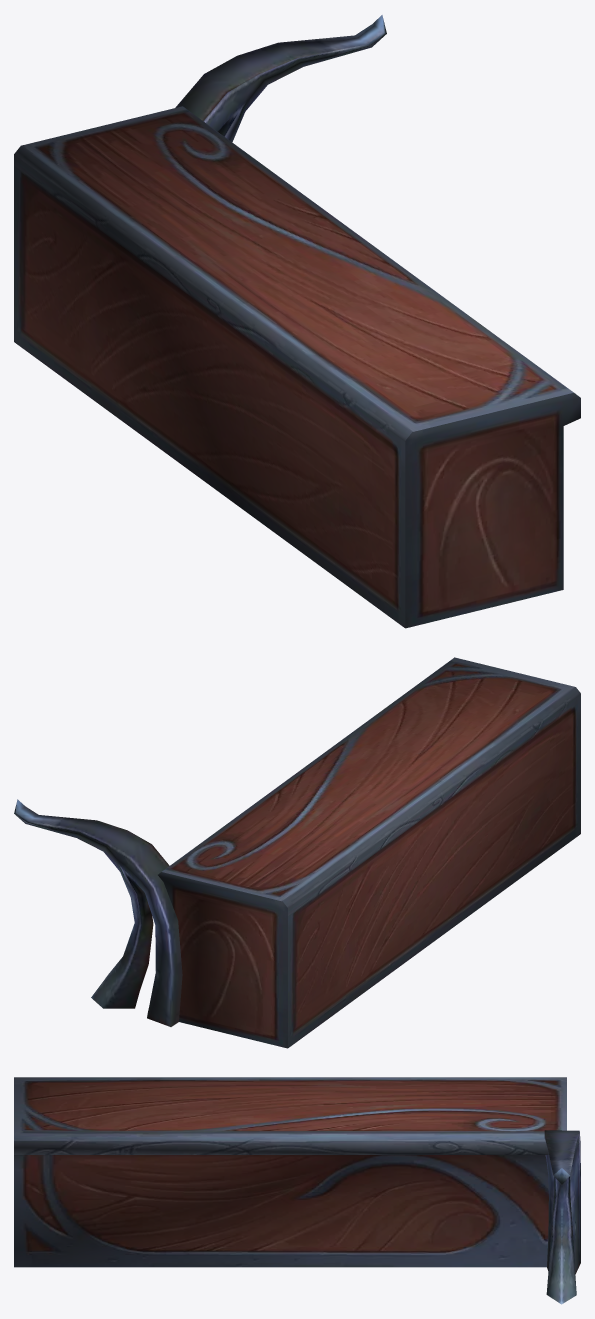
The picture shows the model from 3 angles, top to bottom: view 1: azimuth 30°, elevation 25°; view 2: azimuth 150°, elevation 25°; view 3: azimuth 270°, elevation 25°; orthographic projection. The views are drawn at different scales.
Size of the model in its own units: 2.98 by 1.86 by 5.61.
1 material, 1 textured.
